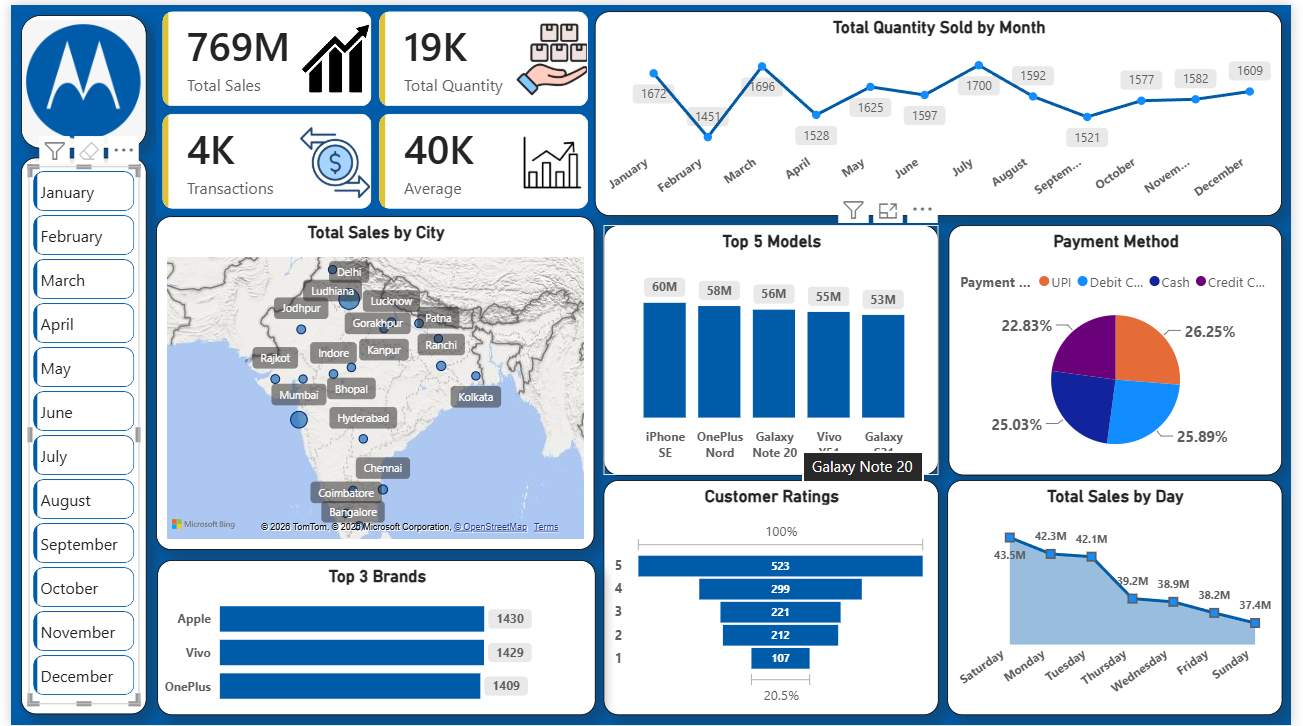

What the dashboard file says about the page in this screenshot:
{"tool":"powerbi","page":{"name":"Page 1","canvas":[1280,720],"ordinal":0},"visuals":[{"type":"shape","box":[10.5,152.3,125.6,557],"z":0},{"type":"image","box":[10.5,10.5,125.6,133.7],"z":1000},{"type":"advancedSlicerVisual","fields":{"Values":["Sales_Data.Date.Variation.Date Hierarchy.Month"]},"box":[17.5,161.2,111.2,538.8],"z":2000},{"type":"cardVisual","fields":{"Data":["Sales_Data.Total Sales","Sales_Data.Total Quantity","Sales_Data.Transactions","Sales_Data.Average"]},"box":[145,0,438.8,211.2],"z":3000},{"type":"map","fields":{"Category":["Sales_Data.City"],"Size":["Sales_Data.Total Sales"]},"box":[145,211.2,438.8,333.8],"z":3001},{"type":"lineChart","title":"Total Quantity Sold by Month","fields":{"Category":["Sales_Data.Date.Variation.Date Hierarchy.Month","Sales_Data.Date.Variation.Date Hierarchy.Day"],"Y":["Sales_Data.Total Quantity"]},"box":[583.8,6.2,687.5,205],"z":3002},{"type":"clusteredColumnChart","title":"Top 5 Models","fields":{"Category":["Sales_Data.Mobile Model"],"Y":["Sales_Data.Total Sales"]},"box":[592.5,220,335,250],"z":3003},{"type":"pieChart","title":"Payment Method","fields":{"Category":["Sales_Data.Payment Method"],"Y":["Sales_Data.Transactions"]},"box":[937.5,220,333.8,250],"z":3004},{"type":"funnel","title":"Customer Ratings","fields":{"Category":["Sales_Data.Customer Ratings"],"Y":["CountNonNull(Sales_Data.Customer Ratings)"]},"box":[592.5,475,335,235],"z":3005},{"type":"areaChart","title":"Total Sales by Day","fields":{"Y":["Sales_Data.Total Sales"],"Category":["Sales_Data.Day Name"]},"box":[936.2,475,335,235],"z":3006},{"type":"clusteredBarChart","title":"Top 3 Brands","fields":{"Category":["Sales_Data.Brand"],"Y":["Sum(Sales_Data.Units Sold)"]},"box":[146.2,555,438.8,155],"z":3007}]}

Visuals, with their boxes in screenshot pixels (x1, y1, x2, y2), scaled from the page's 1280x720 canvas onto the 1303x726 screenshot:
shape: 11 154 139 715
image: 11 11 139 145
advancedSlicerVisual - Sales_Data.Date.Variation.Date Hierarchy.Month: 18 163 131 706
cardVisual - Sales_Data.Total Sales x Sales_Data.Total Quantity: 148 0 594 213
map - Sales_Data.City x Sales_Data.Total Sales: 148 213 594 550
"Total Quantity Sold by Month" lineChart: 594 6 1294 213
"Top 5 Models" clusteredColumnChart: 603 222 944 474
"Payment Method" pieChart: 954 222 1294 474
"Customer Ratings" funnel: 603 479 944 716
"Total Sales by Day" areaChart: 953 479 1294 716
"Top 3 Brands" clusteredBarChart: 149 560 596 716
